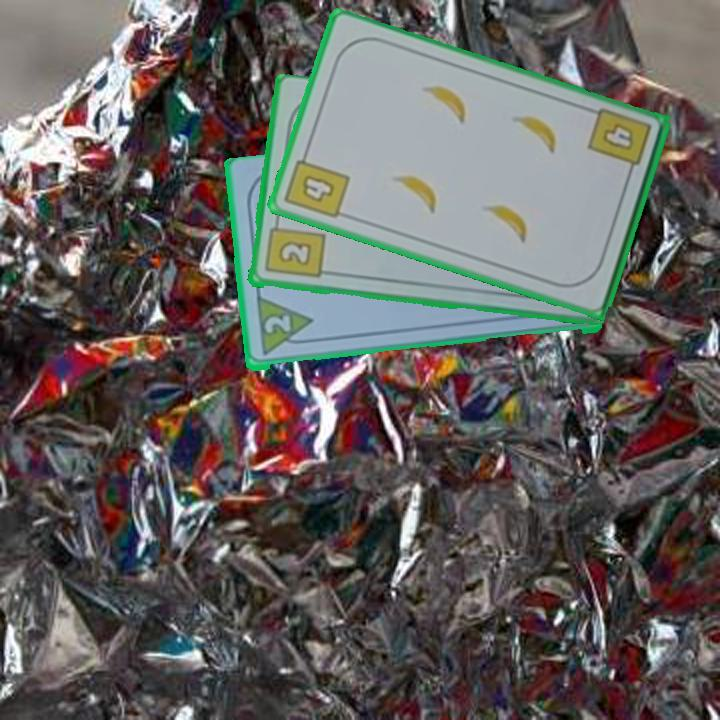2b: (261, 215, 327, 281)
2p: (260, 312, 293, 337)
4b: (281, 146, 353, 222), (584, 104, 654, 181)
